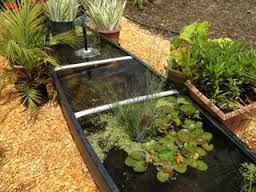container: (40, 30, 256, 192)
pot: (99, 23, 123, 48)
water: (40, 29, 256, 191)
